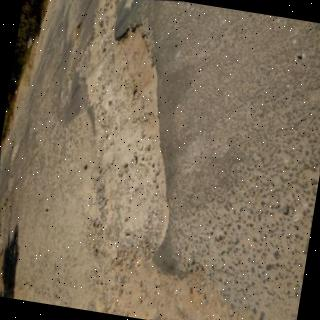pothole: (86, 27, 170, 266)
